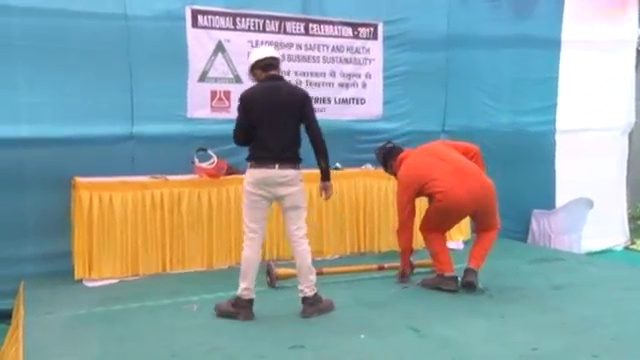helmet: (245, 46, 283, 70)
helmet_off: (382, 145, 404, 171)
helmet_on: (245, 45, 284, 85)
person: (229, 46, 334, 319), (378, 137, 502, 296)
